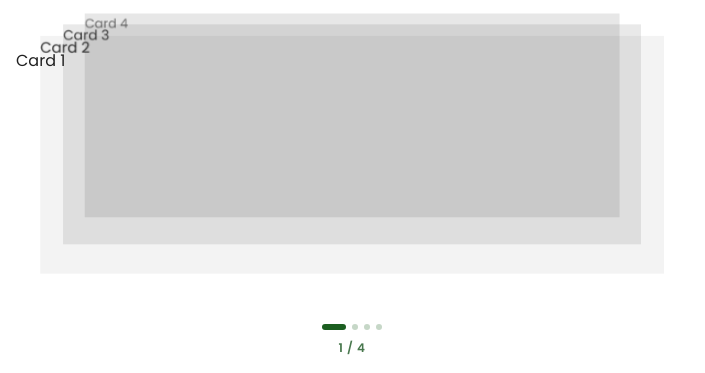
CardStack (P824) › advances on pointer drag swipe when exceeding threshold (R8)
Press the mouse on the element with class "card-stack" at x=352, y=176, box [16, 48, 688, 304]
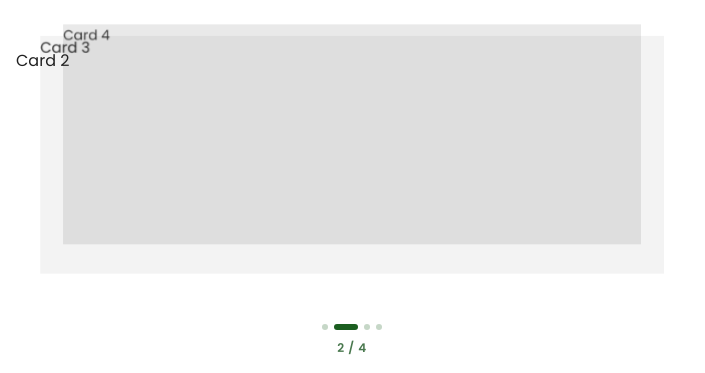
Check: the text "2 / 4" is shown, box [337, 340, 367, 356]
